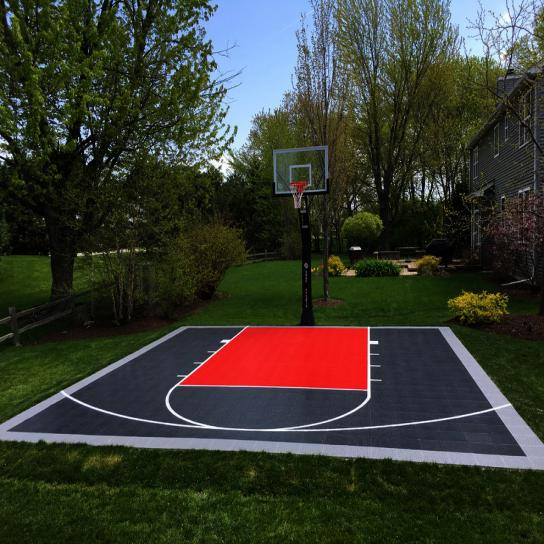basketball-hoop: (289, 180, 308, 208)
